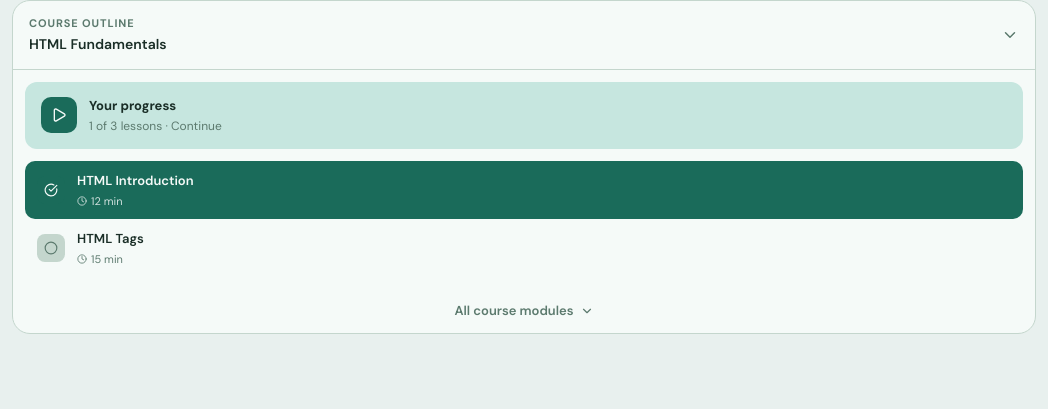
Scenario: CourseOutline › collapses back to the current module when clicked again
The image size is (1048, 409).
Click the button "All course modules" at (524, 311), box left=13, top=289, right=1035, bottom=332
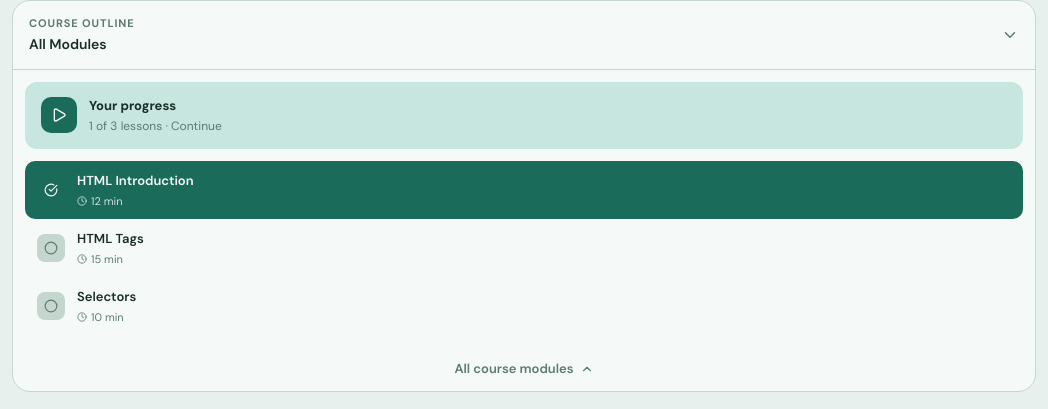
Click the button "All course modules" at (524, 369), box left=13, top=347, right=1035, bottom=390
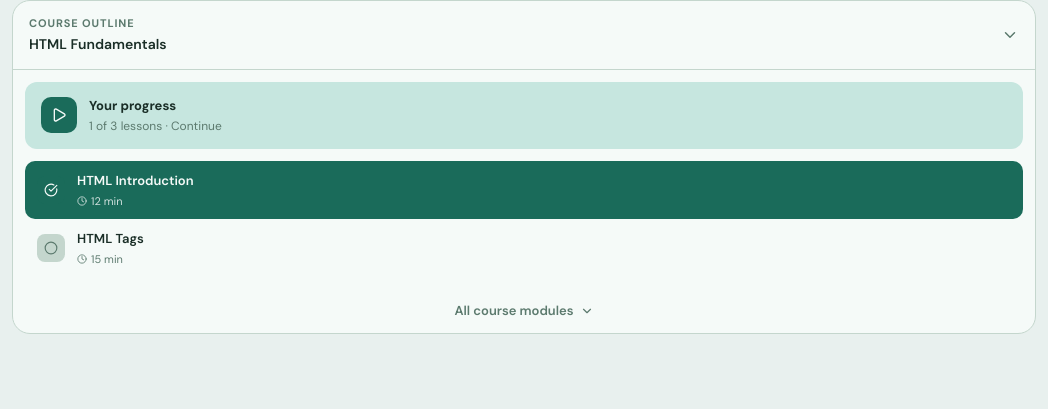
Now the text "Selectors" is gone
Now the text "HTML Fundamentals" is shown, box left=29, top=34, right=167, bottom=54
